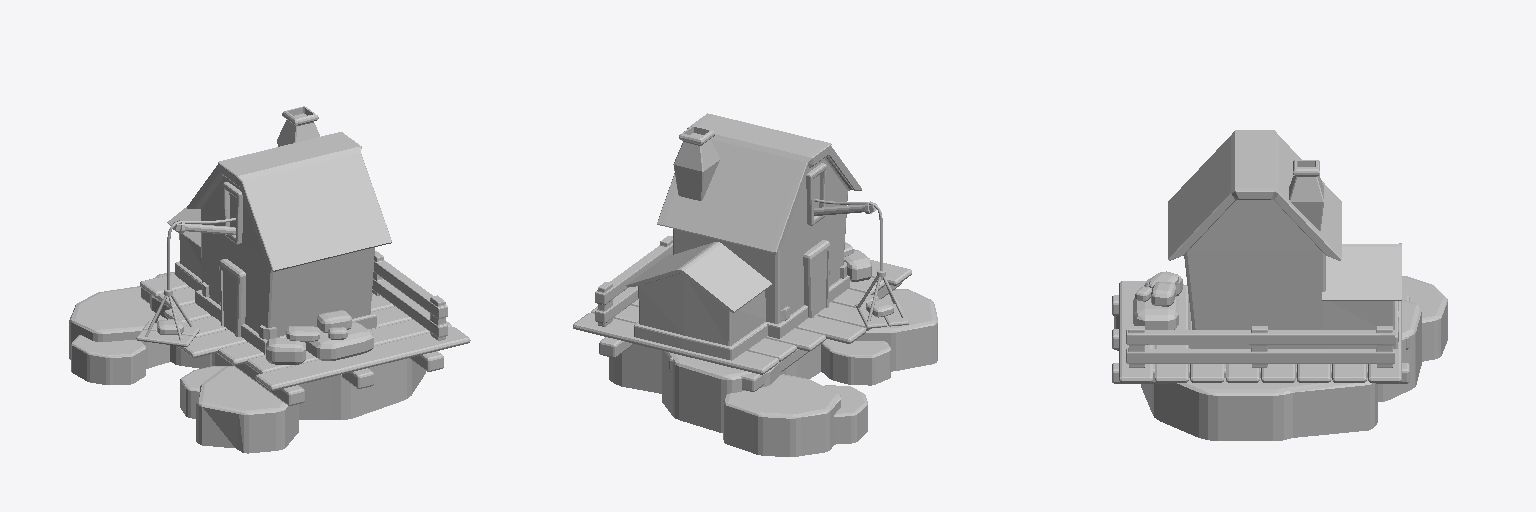
File: SM_carriere.obj
3 renders of one model, left to right at view 1: azimuth 30°, elevation 25°; view 2: azimuth 150°, elevation 25°; view 3: azimuth 270°, elevation 25°, orthographic.
Parts seen in each view (by area): view 1: structure, Cylinder.006, Cylinder.002, Cylinder.001, planche, Cylinder.003, barierre, porte, structure.001, pierre, planche.001, planche.002 (+10 smaller); view 2: structure, structure.001, Cylinder.001, Cylinder.004, Cylinder.006, Cylinder.005, Cylinder.002, cheminer, planche.007, barierre, Cylinder.003, porte (+8 smaller); view 3: structure, Cylinder.002, barierre, structure.001, Cylinder.001, Cylinder.004, cheminer, planche, planche.001, pierre, planche.007, planche.006 (+6 smaller).
Boxes of the visible parts, x1=… form: structure: x1=187, y1=132, x2=391, y2=354; Cylinder.006: x1=196, y1=366, x2=298, y2=453; Cylinder.002: x1=212, y1=353, x2=425, y2=419; Cylinder.001: x1=69, y1=286, x2=169, y2=368; planche: x1=255, y1=327, x2=470, y2=390; Cylinder.003: x1=71, y1=335, x2=145, y2=384; barierre: x1=372, y1=251, x2=447, y2=340; porte: x1=219, y1=259, x2=245, y2=336; structure.001: x1=167, y1=207, x2=201, y2=290; pierre: x1=305, y1=322, x2=373, y2=360; planche.001: x1=246, y1=319, x2=451, y2=373; planche.002: x1=178, y1=294, x2=393, y2=357; structure: x1=657, y1=113, x2=861, y2=338; structure.001: x1=626, y1=242, x2=771, y2=360; Cylinder.001: x1=723, y1=374, x2=840, y2=456; Cylinder.004: x1=662, y1=351, x2=785, y2=432; Cylinder.006: x1=855, y1=289, x2=937, y2=371; Cylinder.005: x1=821, y1=339, x2=890, y2=385; Cylinder.002: x1=609, y1=343, x2=820, y2=393; cheminer: x1=673, y1=126, x2=719, y2=200; planche.007: x1=573, y1=313, x2=778, y2=374; barierre: x1=595, y1=236, x2=672, y2=326; Cylinder.003: x1=824, y1=385, x2=867, y2=444; porte: x1=803, y1=240, x2=829, y2=317; structure: x1=1168, y1=130, x2=1341, y2=348; Cylinder.002: x1=1141, y1=345, x2=1377, y2=440; barierre: x1=1126, y1=326, x2=1394, y2=367; structure.001: x1=1322, y1=243, x2=1401, y2=348; Cylinder.001: x1=1402, y1=276, x2=1447, y2=361; Cylinder.004: x1=1378, y1=299, x2=1421, y2=401; cheminer: x1=1289, y1=160, x2=1323, y2=230; planche: x1=1119, y1=281, x2=1152, y2=382; planche.001: x1=1155, y1=286, x2=1188, y2=382; pierre: x1=1133, y1=296, x2=1178, y2=329; planche.007: x1=1368, y1=301, x2=1401, y2=382; planche.006: x1=1332, y1=364, x2=1366, y2=382.
Bounding box in the file's own units: 6.14 × 5.13 × 6.54.